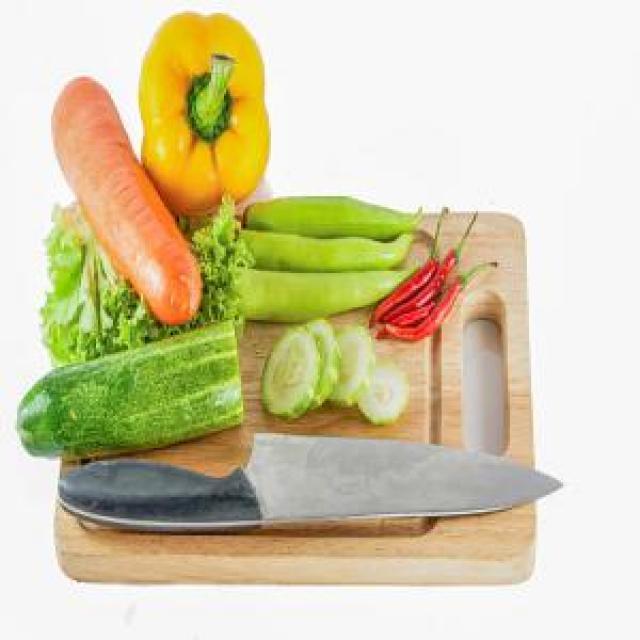knife: (58, 433, 570, 540)
